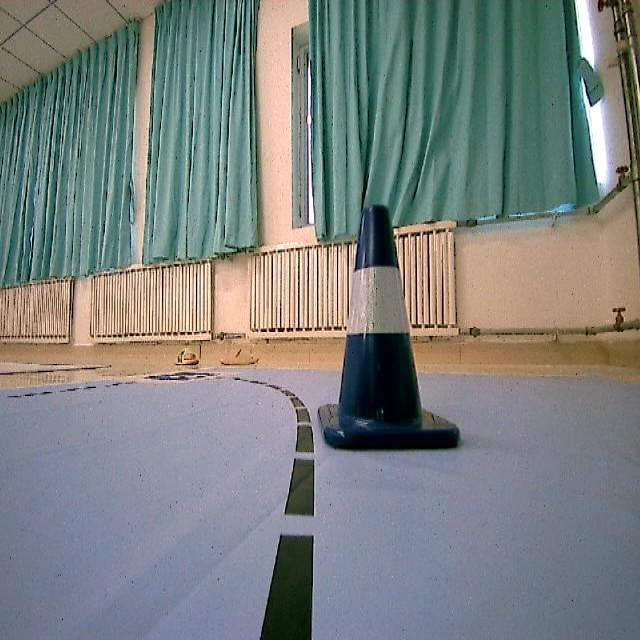obstacle: (306, 201, 458, 466)
